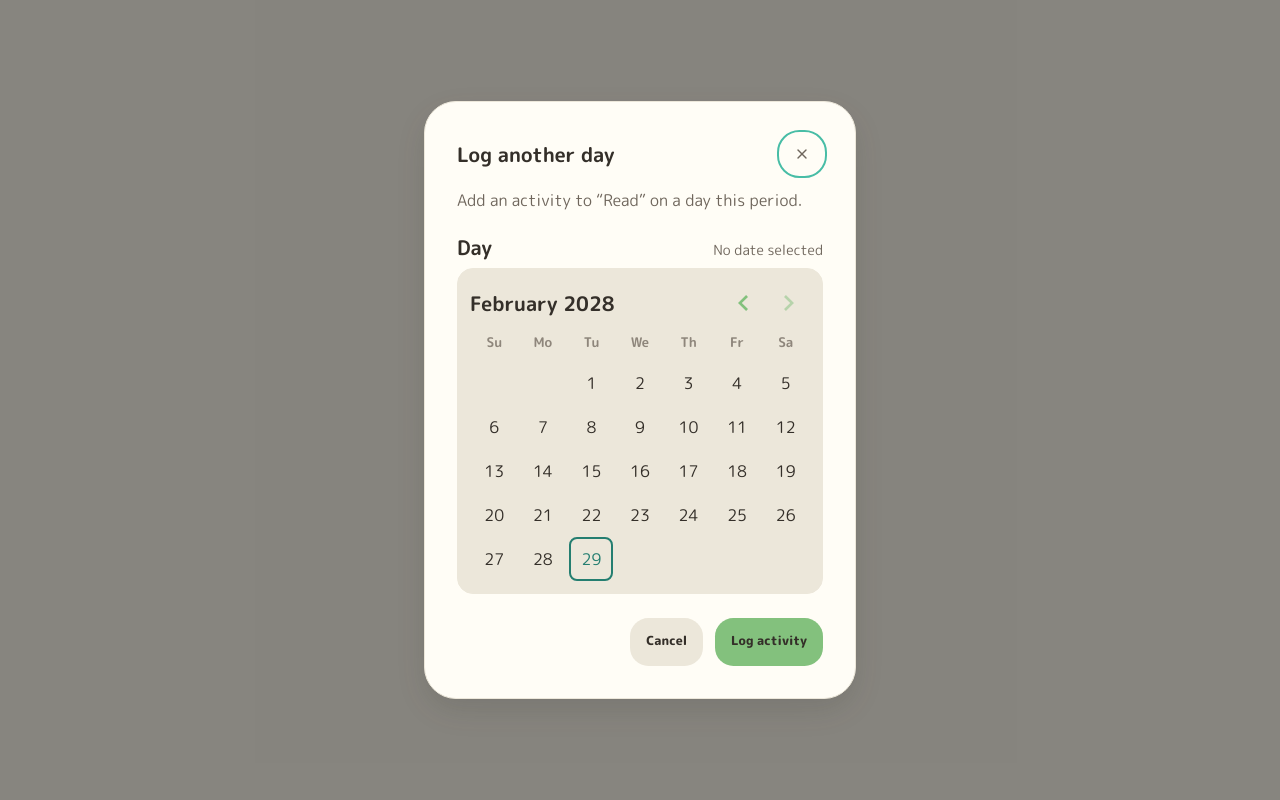
Test: prevents submission without a selection and keeps controls disabled while saving
The width and height of the screenshot is (1280, 800).
Click the button "Log activity".
click(769, 642)  # box [715,618,823,666]
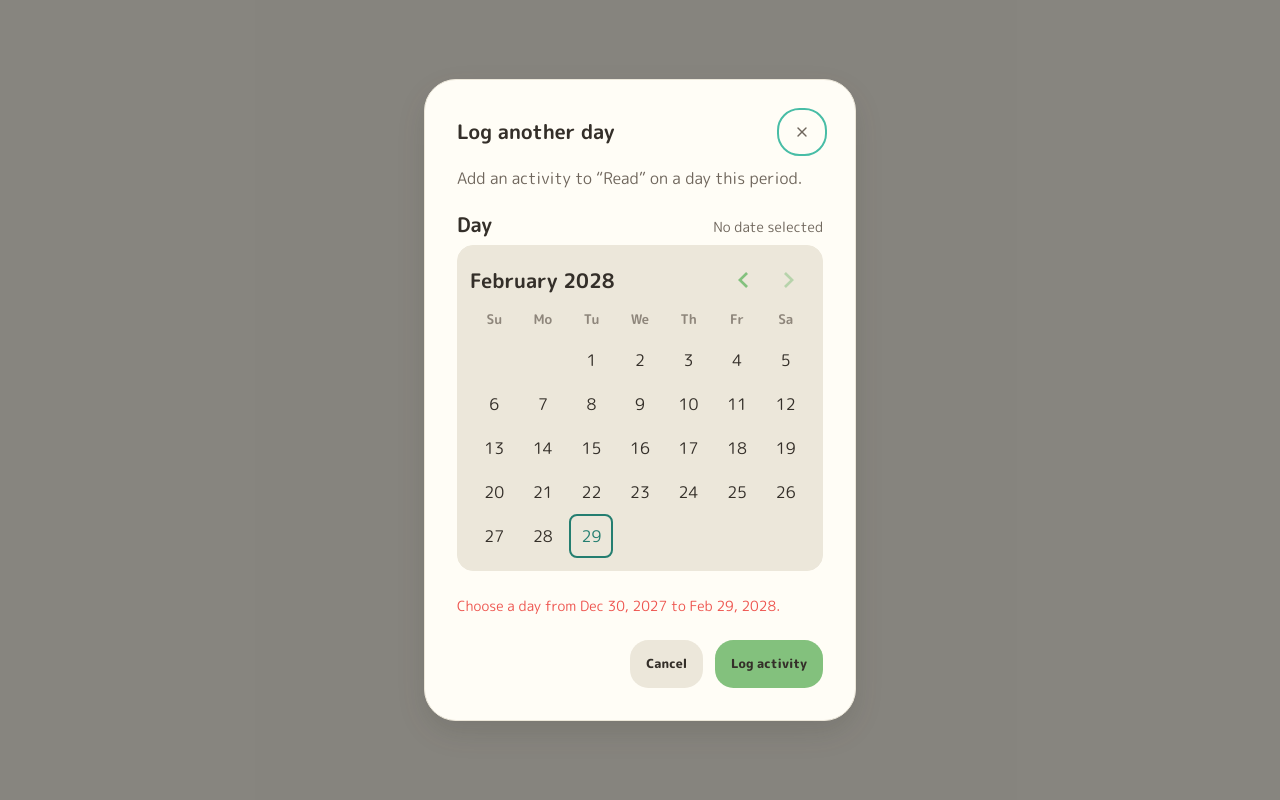
expect the message "Choose a day from Dec 30, 2027 to Feb 29, 2028." is shown: met, box [457,595,823,616]
Click the button "29".
click(591, 536)  # box [569,514,613,558]
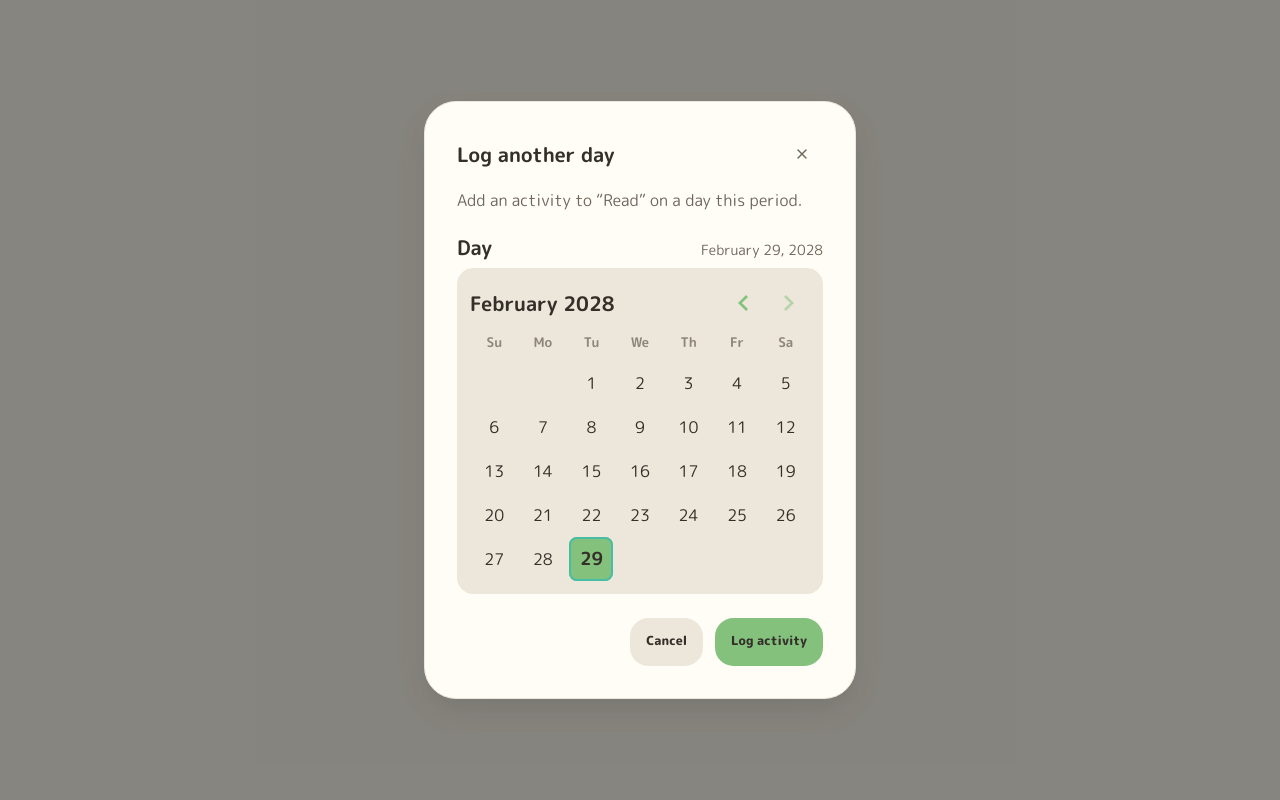
Click the button "Log activity".
click(769, 642)  # box [715,618,823,666]
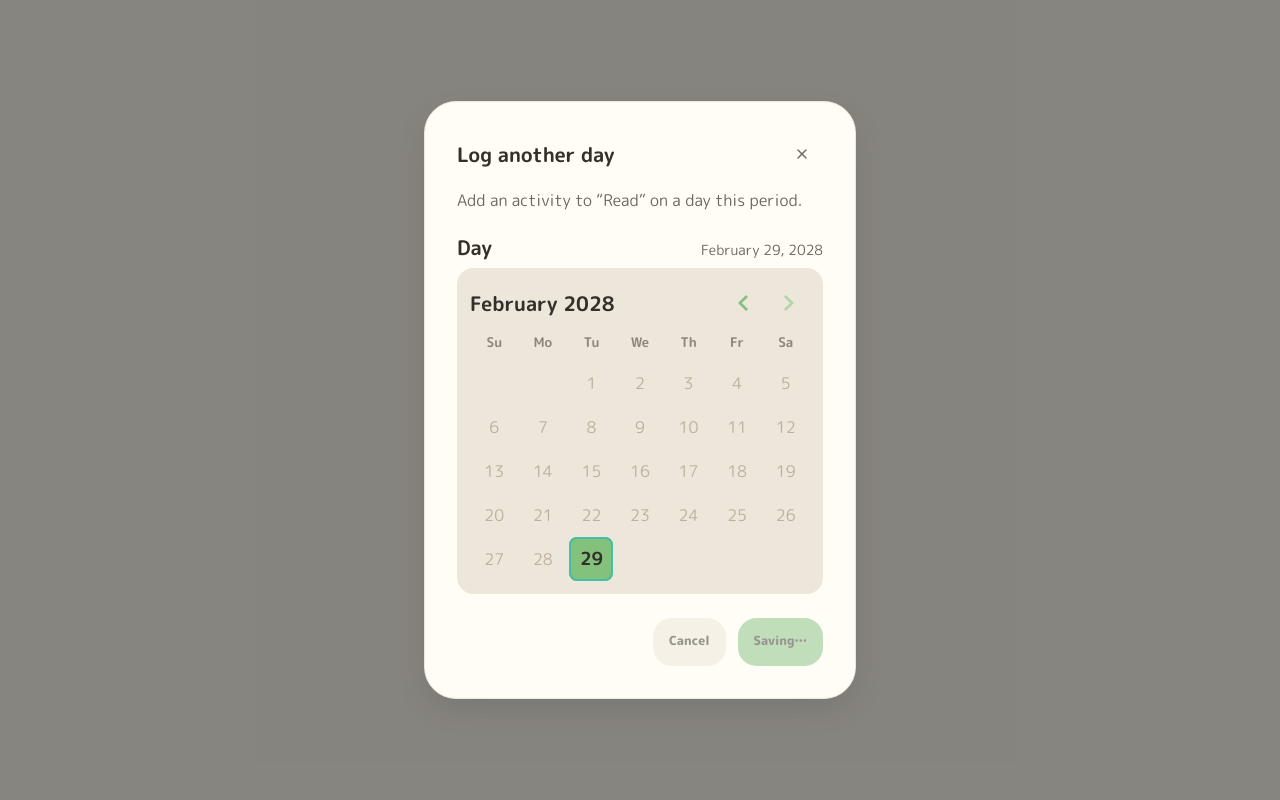
expect the button "Saving…" is disabled: met, box [738,618,823,666]
